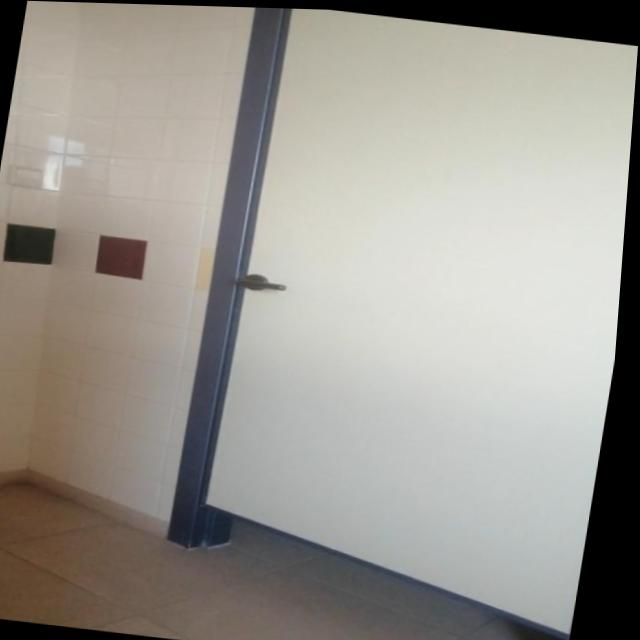door_handle: (240, 273, 293, 291)
